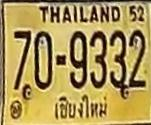0: (34, 30, 52, 88)
2: (128, 29, 148, 88)
3: (109, 30, 126, 88), (89, 32, 106, 88)
7: (13, 30, 32, 89)
9: (69, 31, 86, 88)
CMI: (50, 93, 111, 120)
